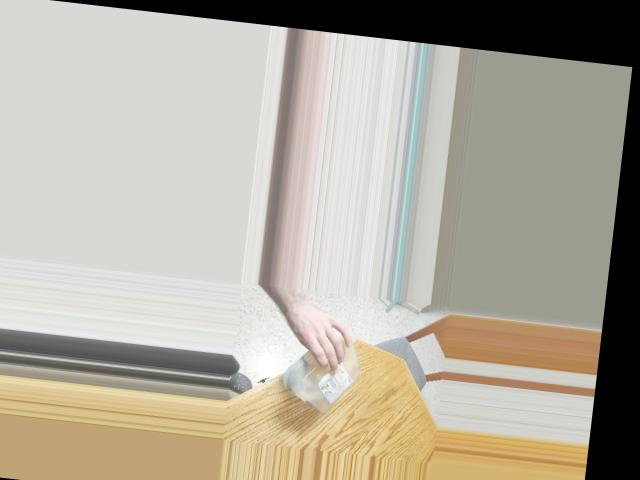cheese: (283, 315, 368, 417)
